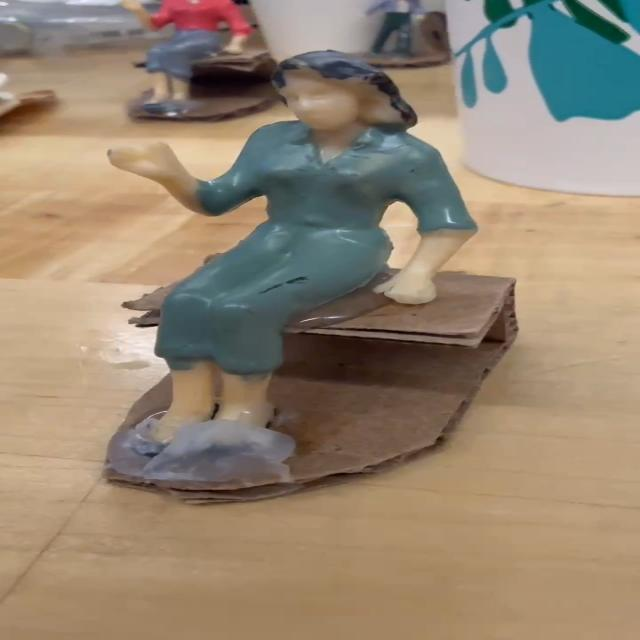Authorized: (79, 42, 494, 456)
